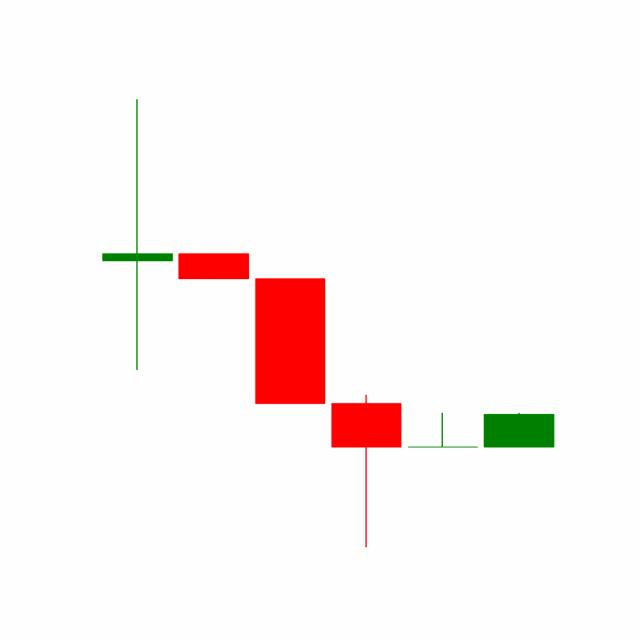Gravestone Doji: (403, 412, 481, 448)
